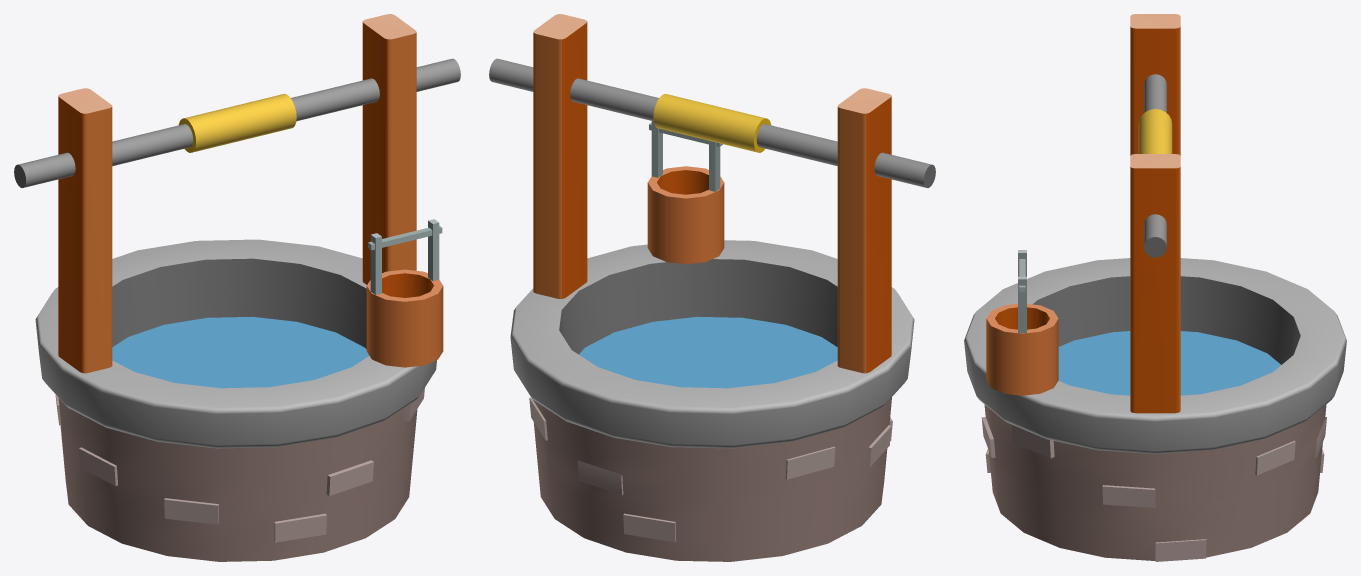
The model's file is Well.fbx.
3 views of the same model, side by side, from view 1: azimuth 30°, elevation 25°; view 2: azimuth 150°, elevation 25°; view 3: azimuth 270°, elevation 25° (orthographic). The views are drawn at different scales.
Visible parts, largest first — view 1: Well; view 2: Well; view 3: Well.
Boxes of the visible parts, x1=… form: Well: x1=14, y1=14, x2=460, y2=561; Well: x1=489, y1=14, x2=935, y2=561; Well: x1=964, y1=14, x2=1346, y2=561.
Size of the model in its own units: 450 by 421 by 364.
